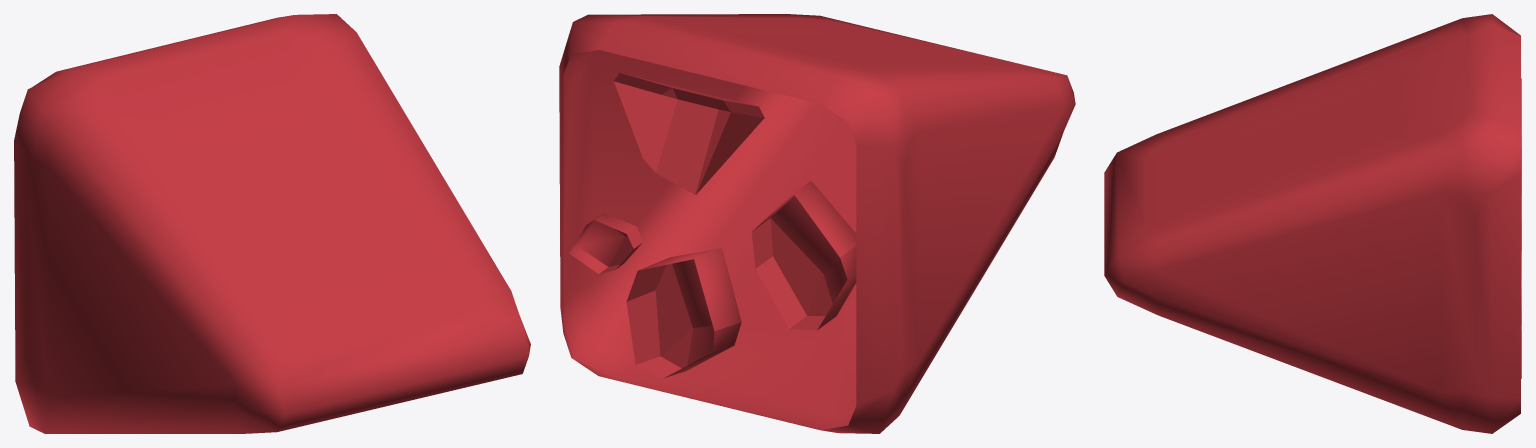
The model's file is airhockey_wall2_geo.glb.
3 views of the same model, side by side, from view 1: azimuth 30°, elevation 25°; view 2: azimuth 150°, elevation 25°; view 3: azimuth 270°, elevation 25° (orthographic). The views are drawn at different scales.
Visible parts, largest first — view 1: wall_2; view 2: wall_2, wall_2_destroyed; view 3: wall_2.
Part boxes in pixels (x1=…): wall_2: x1=14, y1=14, x2=530, y2=433; wall_2: x1=559, y1=14, x2=1075, y2=433; wall_2_destroyed: x1=569, y1=73, x2=856, y2=378; wall_2: x1=1104, y1=14, x2=1520, y2=433.
Bounding box in the file's own units: 1.06 × 1.07 × 1.32.
